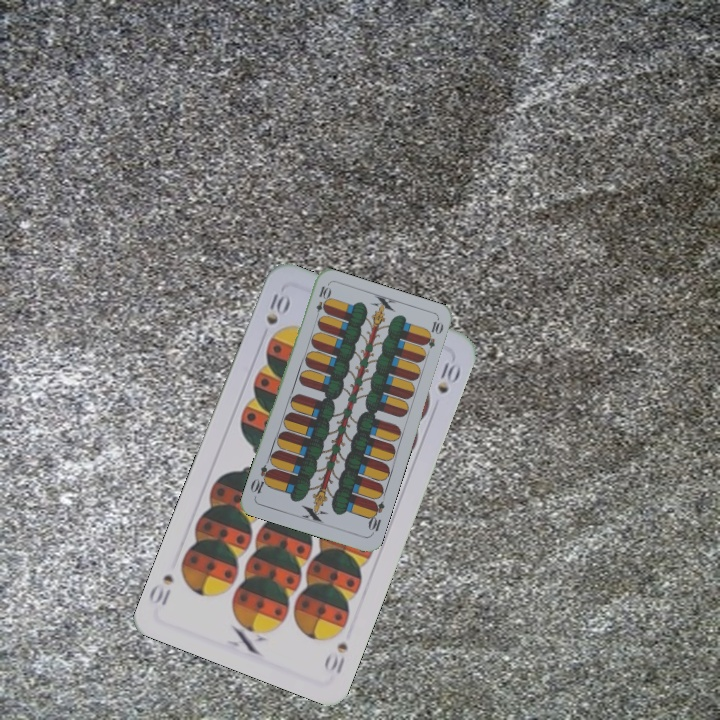E10: (364, 497, 387, 537), (312, 282, 332, 322)
S10: (262, 289, 293, 328), (320, 638, 351, 676)
